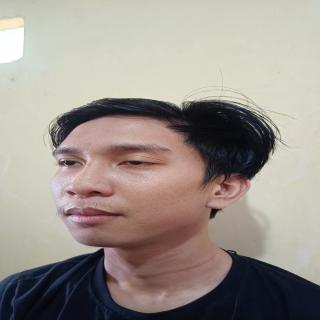Netral: (54, 114, 217, 251)
